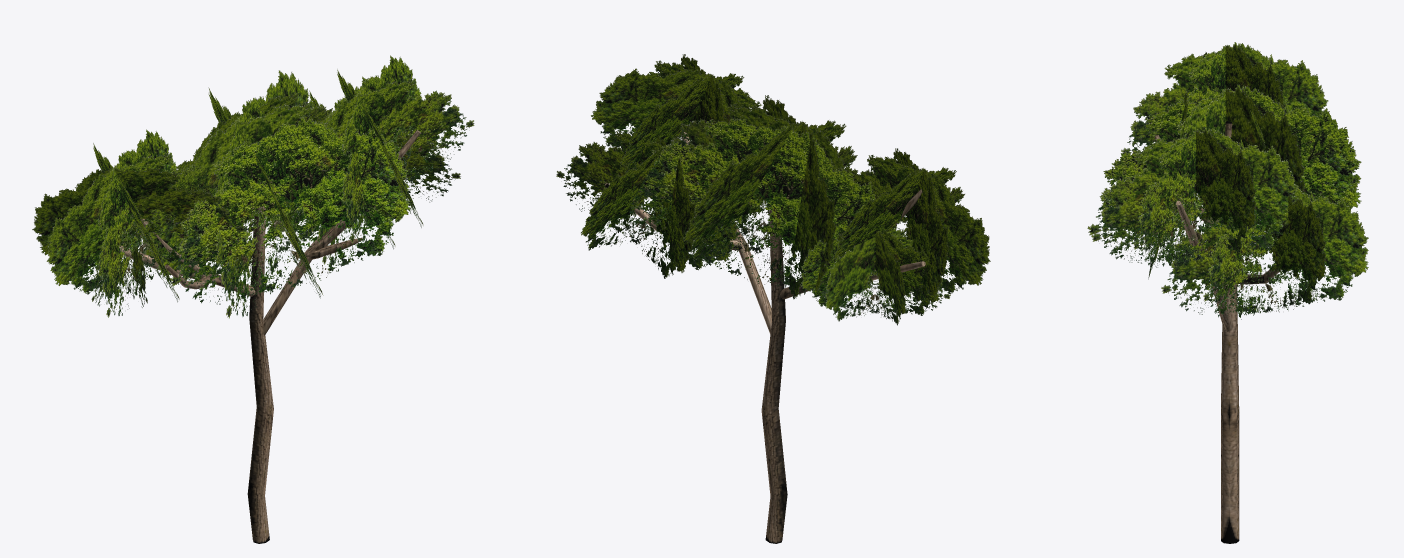
The model's file is tree_a.fbx.
3 views of the same model, side by side, from view 1: azimuth 30°, elevation 25°; view 2: azimuth 150°, elevation 25°; view 3: azimuth 270°, elevation 25° (orthographic). The views are drawn at different scales.
Visible parts, largest first — view 1: Plane022, Plane013, Plane014, Plane009, Plane017, Trunk_001, Plane016, Plane020, Plane012, Branch_002, Plane006, Plane019 (+6 smaller); view 2: Plane021, Plane019, Plane013, Trunk_001, Plane018, Plane012, Plane005, Plane014, Plane015, Plane007, Plane011, Plane006 (+8 smaller); view 3: Plane019, Plane011, Plane007, Plane012, Plane015, Plane010, Plane008, Trunk_001, Plane020, Plane006, Plane018, Plane016 (+2 smaller).
Part boxes in pixels (box(x1,y1,x2,y2)): Plane022: box(170, 117, 410, 304); Plane013: box(46, 153, 217, 294); Plane014: box(32, 167, 244, 269); Plane009: box(300, 79, 474, 210); Plane017: box(147, 102, 332, 281); Trunk_001: box(247, 143, 273, 543); Plane016: box(98, 129, 176, 317); Plane020: box(215, 70, 313, 318); Plane012: box(341, 55, 421, 243); Branch_002: box(263, 130, 420, 335); Plane006: box(311, 114, 460, 205); Plane019: box(208, 87, 323, 298); Plane021: box(629, 117, 875, 297); Plane019: box(683, 120, 857, 261); Plane013: box(832, 155, 990, 294); Trunk_001: box(761, 210, 787, 543); Plane018: box(735, 95, 836, 299); Plane012: box(591, 68, 761, 149); Plane005: box(556, 130, 738, 270); Plane014: box(865, 148, 949, 302); Plane015: box(833, 167, 964, 259); Plane007: box(581, 143, 693, 250); Plane011: box(620, 73, 750, 172); Plane006: box(613, 133, 695, 278); Plane019: box(1087, 85, 1361, 263); Plane011: box(1091, 128, 1298, 264); Plane007: box(1161, 187, 1368, 316); Plane012: box(1135, 129, 1256, 260); Plane015: box(1121, 43, 1328, 154); Plane010: box(1133, 127, 1244, 267); Plane008: box(1204, 195, 1326, 314); Trunk_001: box(1221, 121, 1239, 543); Plane020: box(1160, 87, 1305, 251); Plane006: box(1203, 191, 1317, 319); Plane018: box(1143, 84, 1290, 266); Plane016: box(1200, 44, 1285, 110).
Bounding box in the file's own units: 153 × 160 × 95.09.
